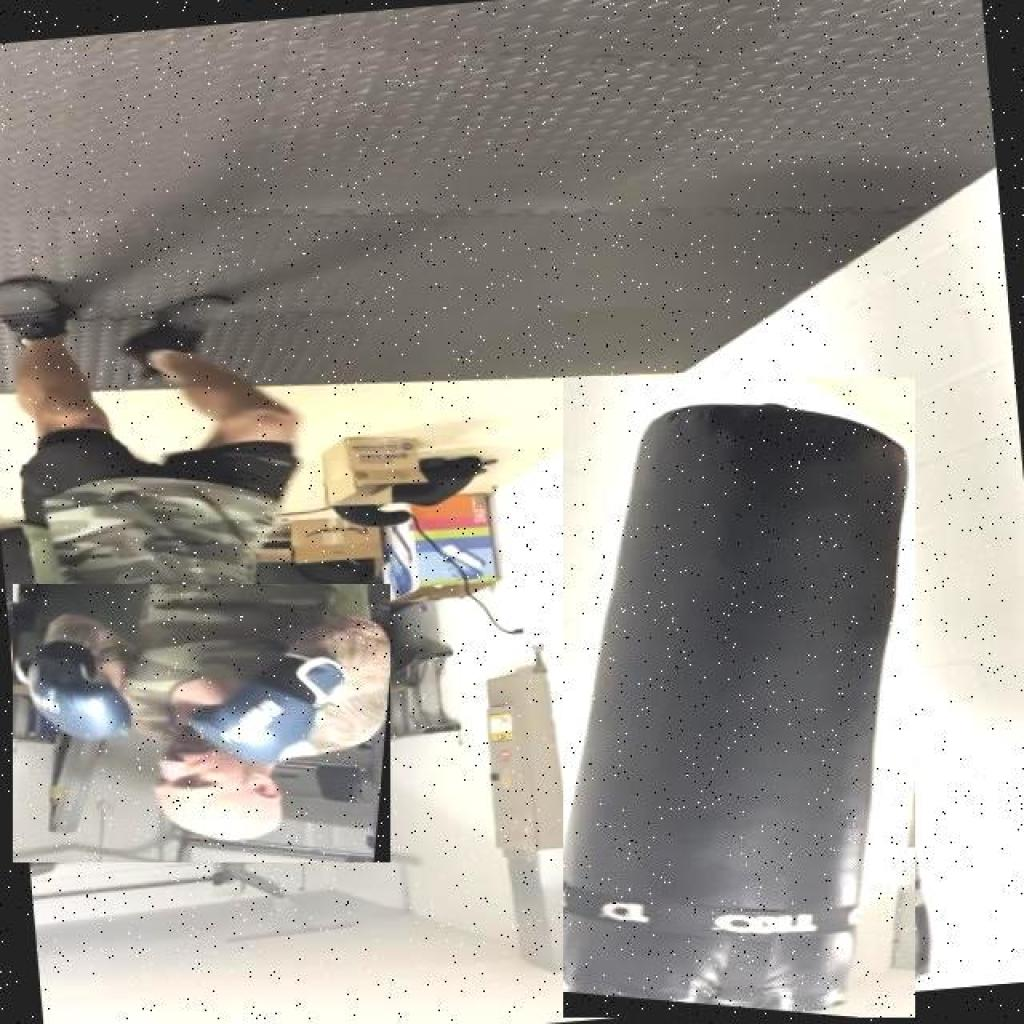bag: (563, 378, 916, 1018)
no punch: (13, 584, 390, 862)
